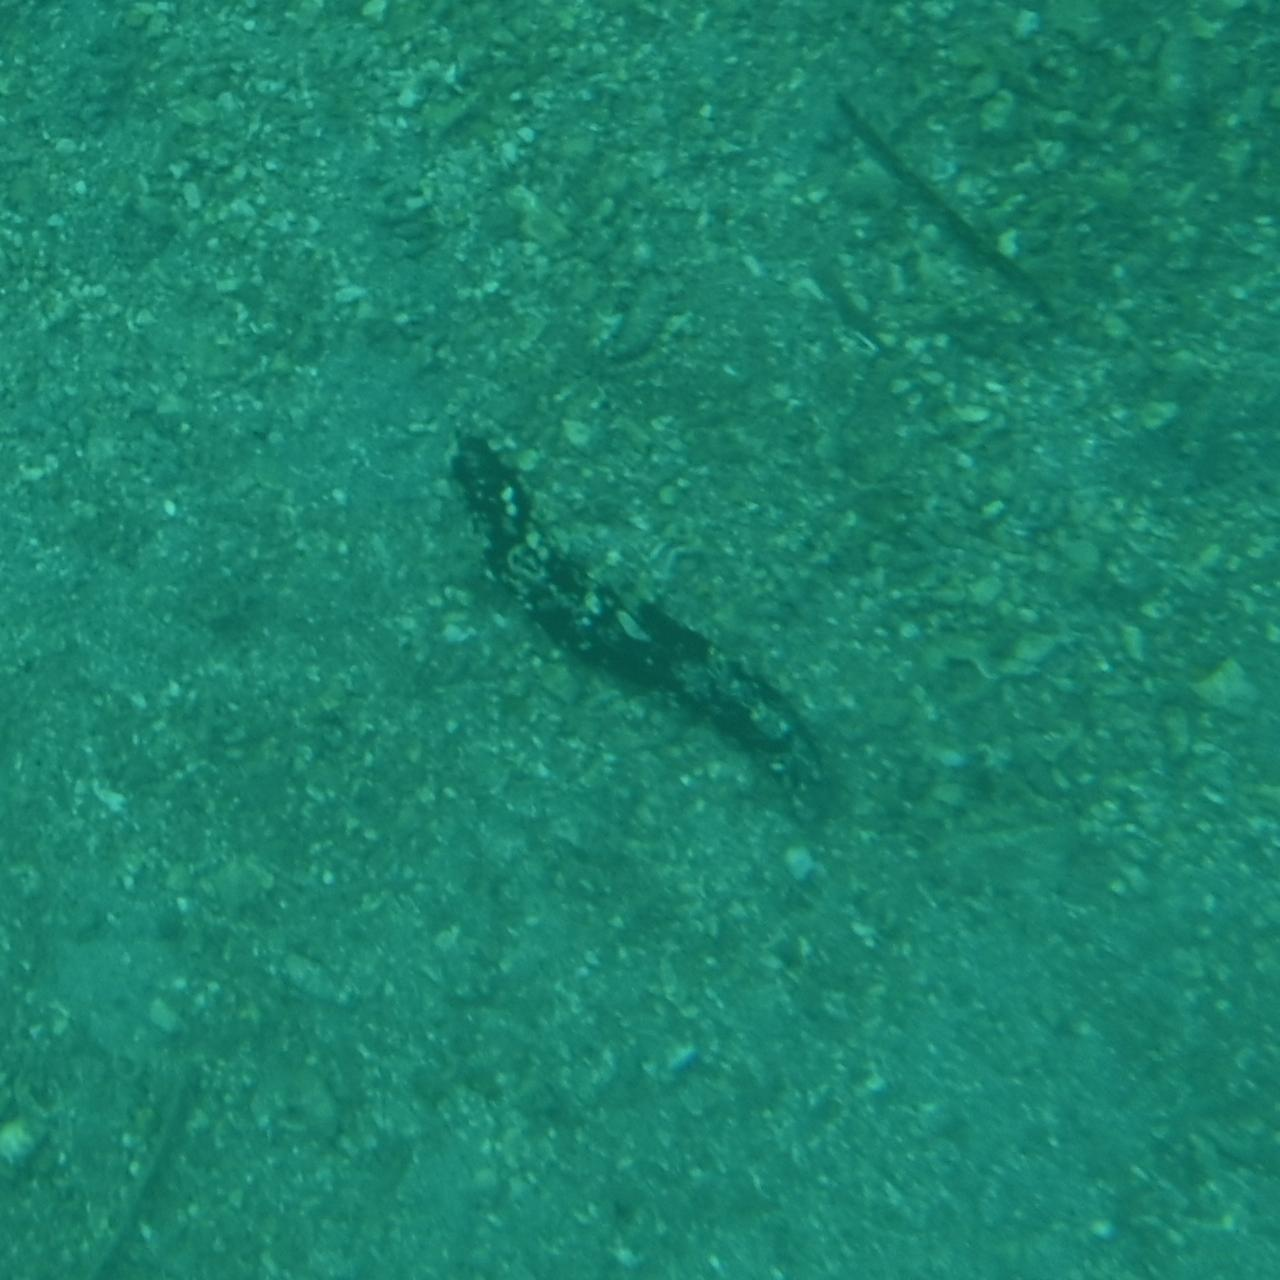Holothuria tubulosa: (444, 453, 836, 827)
